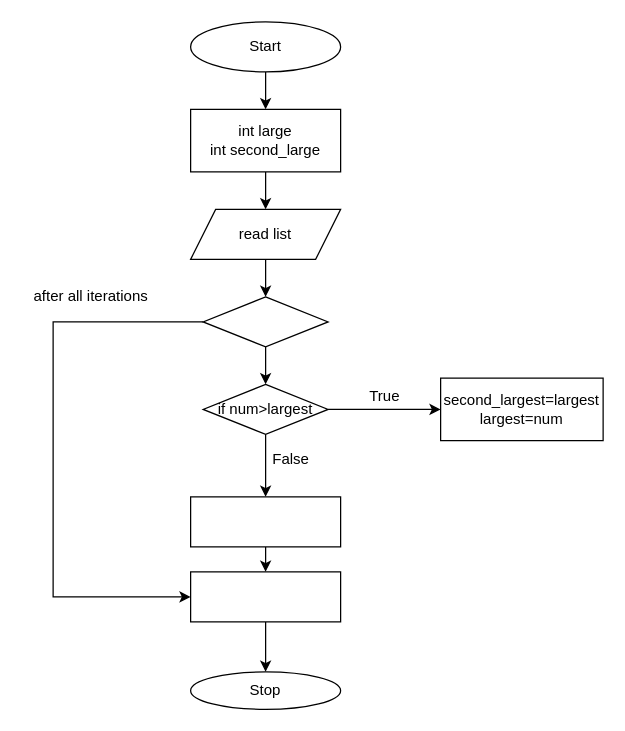
This 625x731 diagram has some shape labels left out. Here are the shapes that lost their labels. From the top down, the centre of each, then its label:
(265,321): for num in list
(265,521): second_largest=num
(265,596): return second_largest
